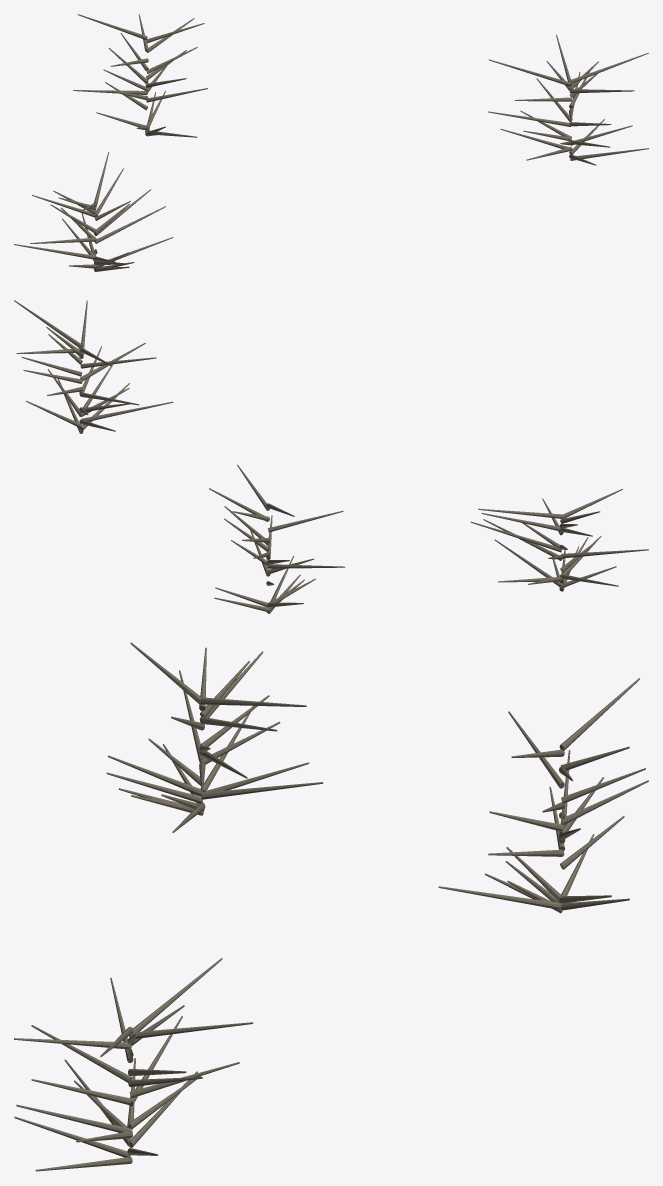
File: xiyuan-vegetation-09-near.glb
3 views of the same model, one above another, from view 1: azimuth 30°, elevation 25°; view 2: azimuth 150°, elevation 25°; view 3: azimuth 270°, elevation 25° (orthographic). The views are drawn at different scales.
Visible parts, largest first — view 1: vegetation willow branches; view 2: vegetation willow branches; view 3: vegetation willow branches.
Part boxes in pixels (x1=…): vegetation willow branches: x1=14, y1=14, x2=648, y2=271; vegetation willow branches: x1=14, y1=300, x2=648, y2=613; vegetation willow branches: x1=14, y1=642, x2=648, y2=1171.
Size of the model in its own units: 27.14 by 5.92 by 14.83.
